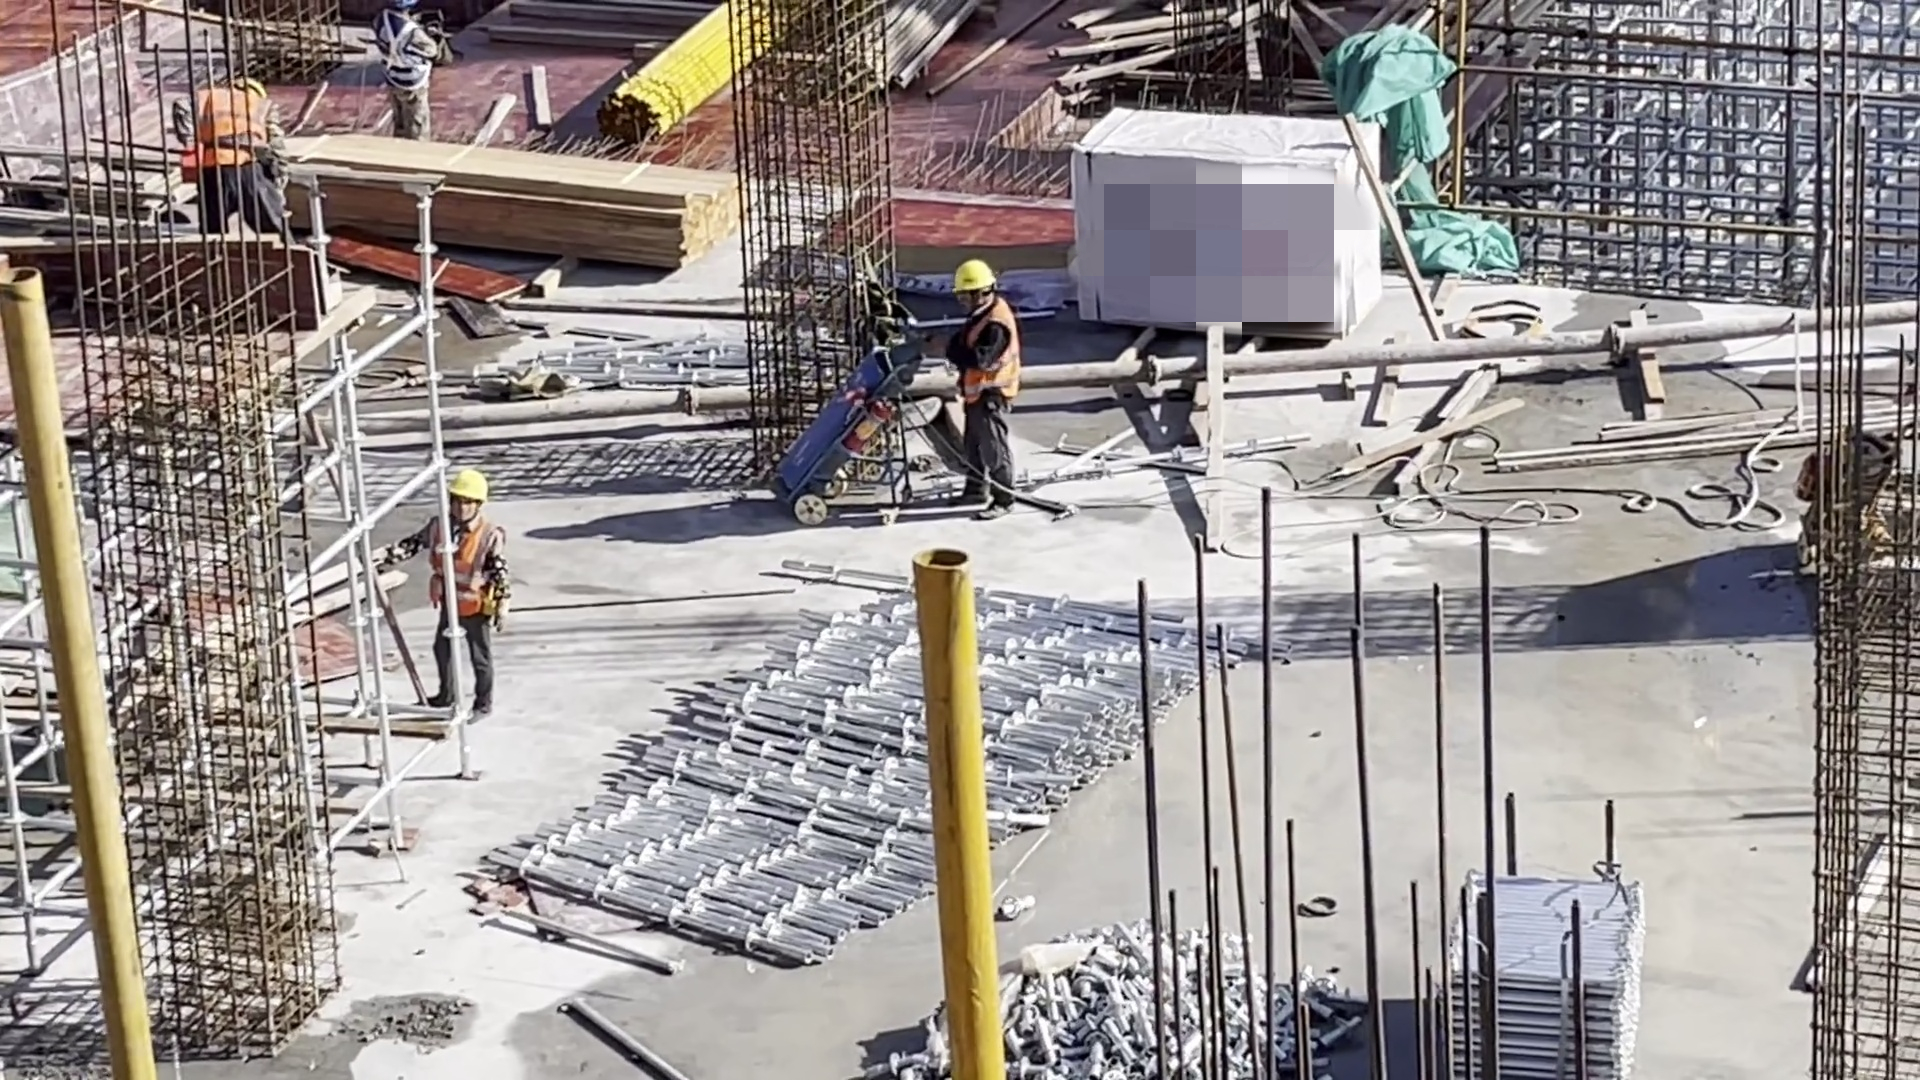helmet: (444, 471, 495, 502), (957, 258, 998, 294)
person: (388, 468, 510, 717), (932, 252, 1034, 520), (169, 72, 289, 224), (371, 4, 444, 132)
vest: (952, 303, 1024, 397), (432, 520, 499, 623), (195, 90, 270, 164), (378, 16, 431, 88)
